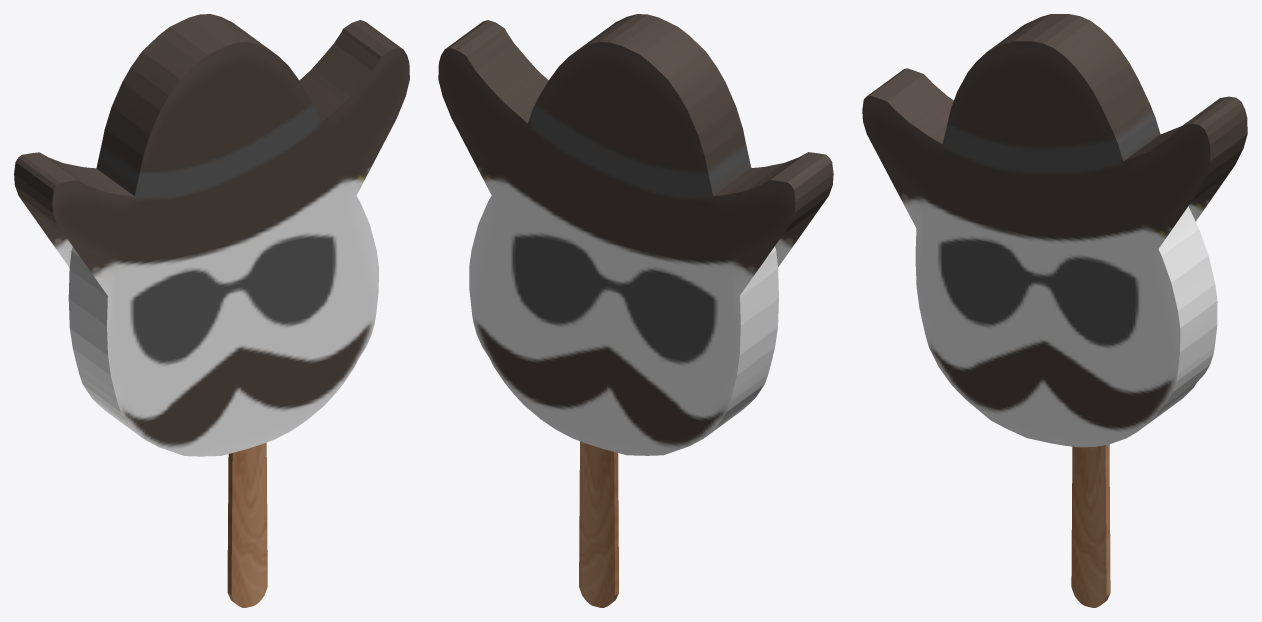
File: cidd.fbx
3 renders of one model, left to right at view 1: azimuth 30°, elevation 25°; view 2: azimuth 150°, elevation 25°; view 3: azimuth 330°, elevation 25°, orthographic. The views are drawn at different scales.
Parts seen in each view (by area): view 1: cidd; view 2: cidd; view 3: cidd.
Boxes of the visible parts, x1=… form: cidd: x1=14, y1=14, x2=409, y2=607; cidd: x1=438, y1=14, x2=833, y2=607; cidd: x1=862, y1=14, x2=1247, y2=607.
Size of the model in its own units: 135 by 211 by 25.
Materials: 1 (1 with a texture image).
